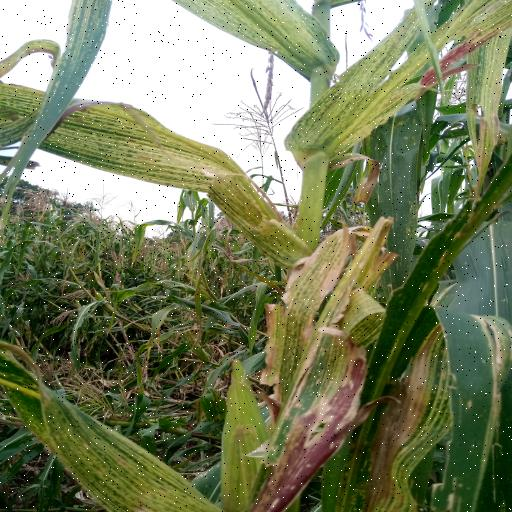Corn_Streak: (0, 77, 306, 251), (231, 224, 401, 512), (25, 383, 215, 510)
